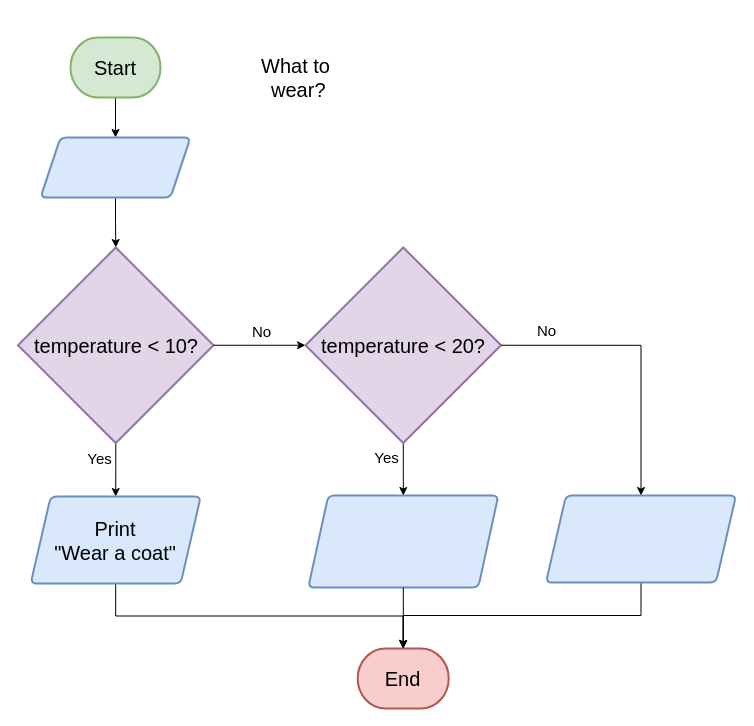
Image size: 754x726. Some labels were removed from this diagram. Here are the shapes that lost their labels. From the top down, the centre of each, then its label:
(x=115, y=167): Input temperature
(x=403, y=541): Print "Wear a jumper"
(x=640, y=538): Print "Wear a shirt"
